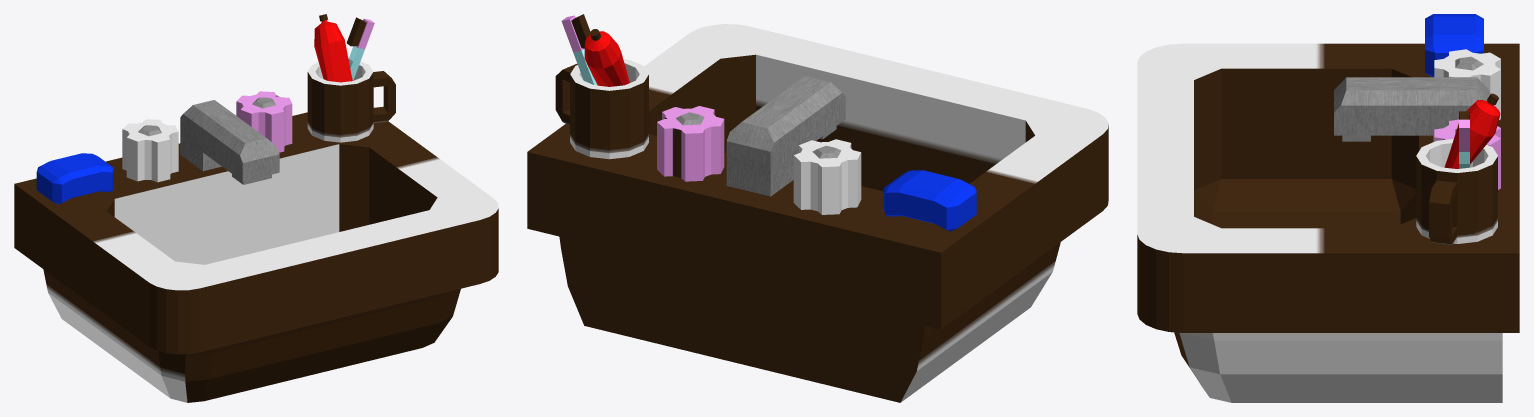
The model's file is Sink.fbx.
3 renders of one model, left to right at view 1: azimuth 30°, elevation 25°; view 2: azimuth 150°, elevation 25°; view 3: azimuth 270°, elevation 25°, orthographic. The views are drawn at different scales.
Visible parts, largest first — view 1: sink, tap, hotcold, cup, soapbar, toothpaste, toothbrush; view 2: sink, hotcold, tap, cup, soapbar, toothpaste, toothbrush; view 3: sink, tap, cup, hotcold, soapbar, toothpaste, toothbrush.
Part boxes in pixels (box(x1,y1,x2,y2)): sink: box(14, 112, 498, 402); tap: box(180, 100, 279, 184); hotcold: box(122, 91, 292, 182); cup: box(307, 61, 395, 142); soapbar: box(36, 153, 113, 204); toothpaste: box(314, 14, 352, 82); toothbrush: box(346, 17, 374, 80); sink: box(527, 24, 1108, 402); hotcold: box(657, 106, 861, 214); tap: box(726, 76, 845, 196); cup: box(555, 59, 648, 159); soapbar: box(884, 170, 976, 231); toothpaste: box(584, 29, 629, 86); toothbrush: box(561, 14, 597, 85); sink: box(1137, 43, 1519, 402); tap: box(1334, 77, 1489, 141); cup: box(1416, 139, 1497, 244); hotcold: box(1434, 49, 1500, 189); soapbar: box(1425, 14, 1483, 77); toothpaste: box(1444, 93, 1500, 168); toothbrush: box(1459, 111, 1469, 168).
Size of the model in its own units: 0.68 by 0.4559 by 0.5176.
